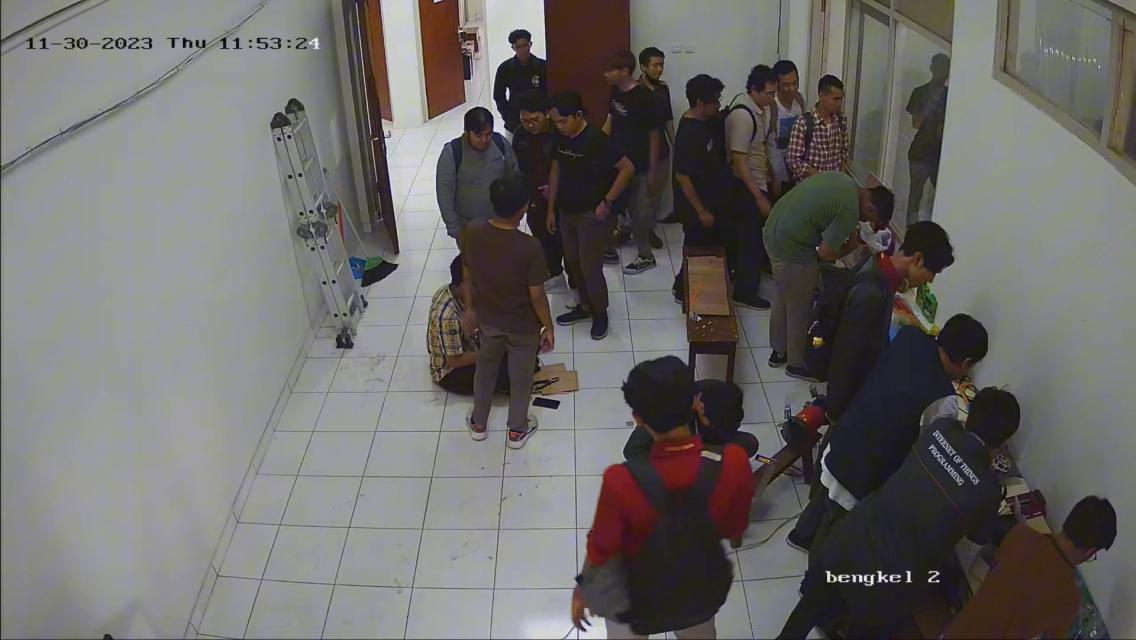Crowd: (392, 19, 956, 437), (772, 164, 1120, 640)
